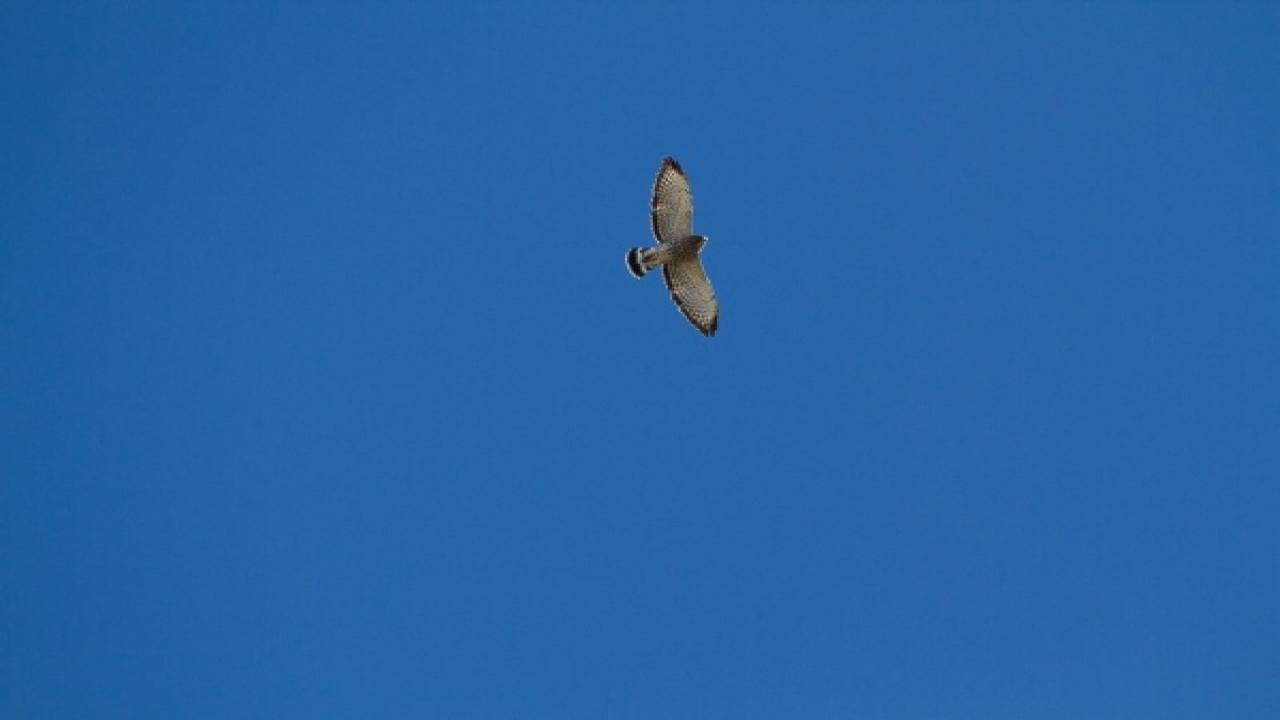Bird: (611, 152, 746, 345)
